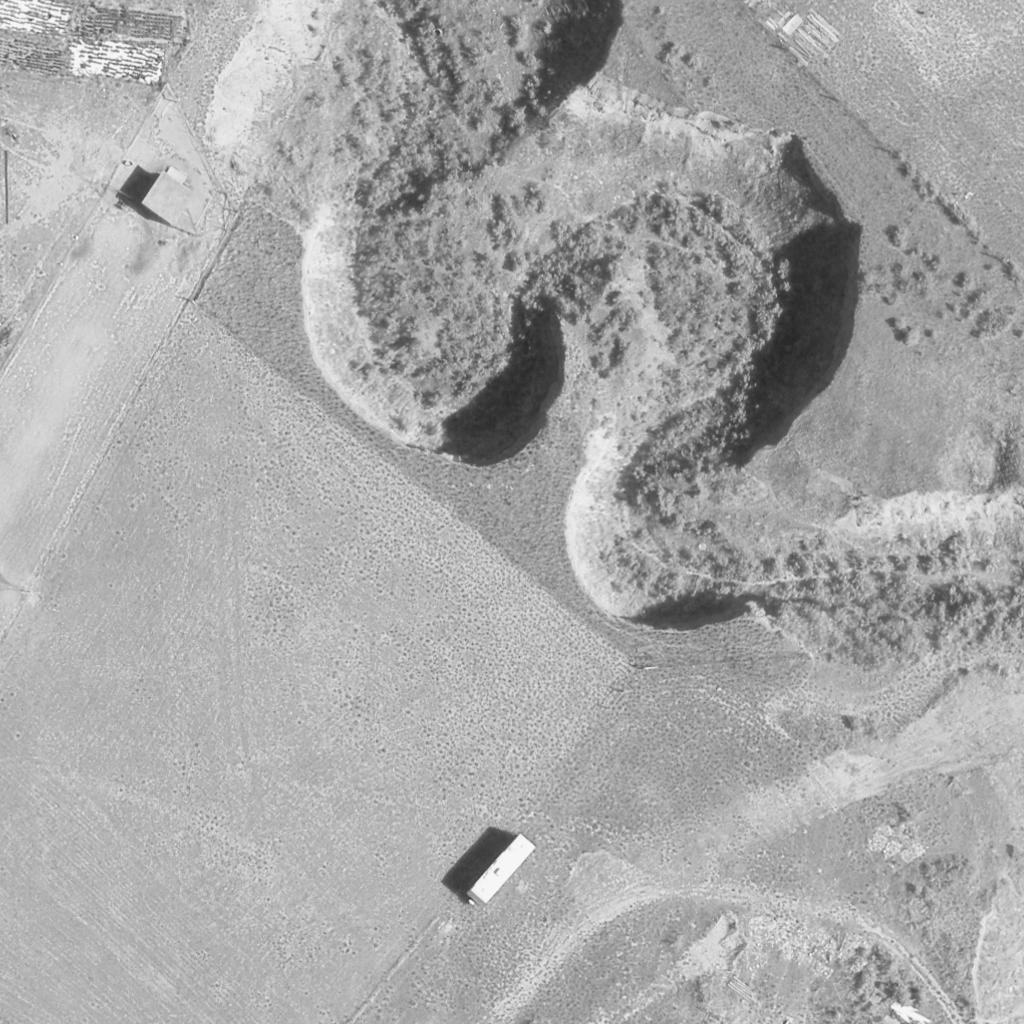vehicle: (465, 832, 537, 910)
